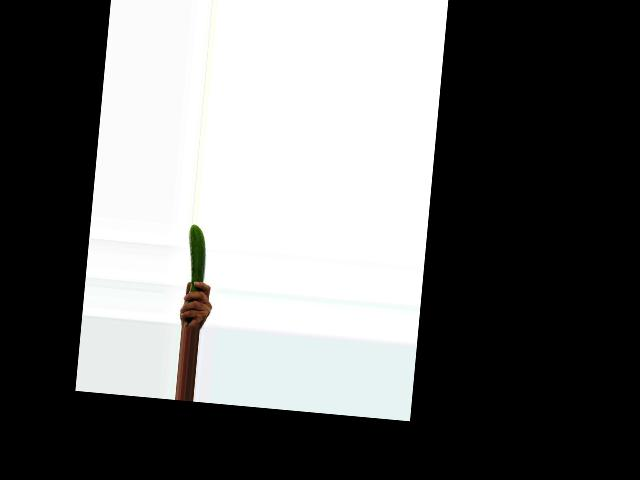cucumber: (180, 223, 208, 327)
